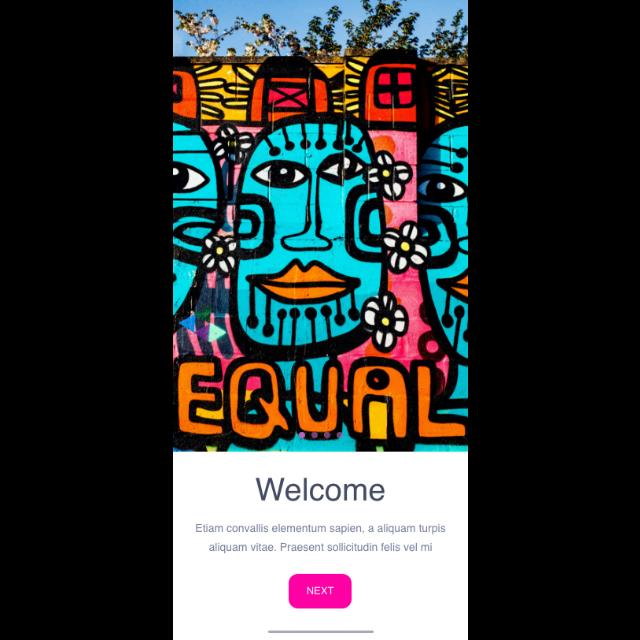image: (175, 1, 468, 451)
text: (197, 524, 446, 554), (255, 478, 385, 502)
textbutton: (288, 574, 352, 608)
